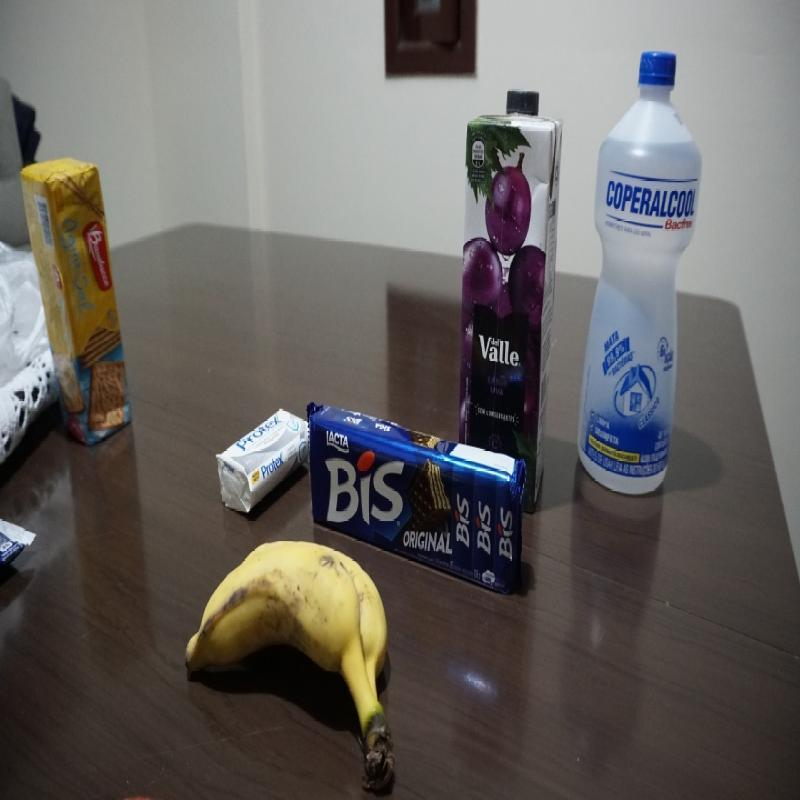Alcohol Bottle: (576, 51, 701, 499)
Banana: (186, 537, 396, 789)
Cracker: (20, 152, 135, 452)
Popcorn: (2, 504, 37, 588)
Soap: (216, 407, 311, 515)
